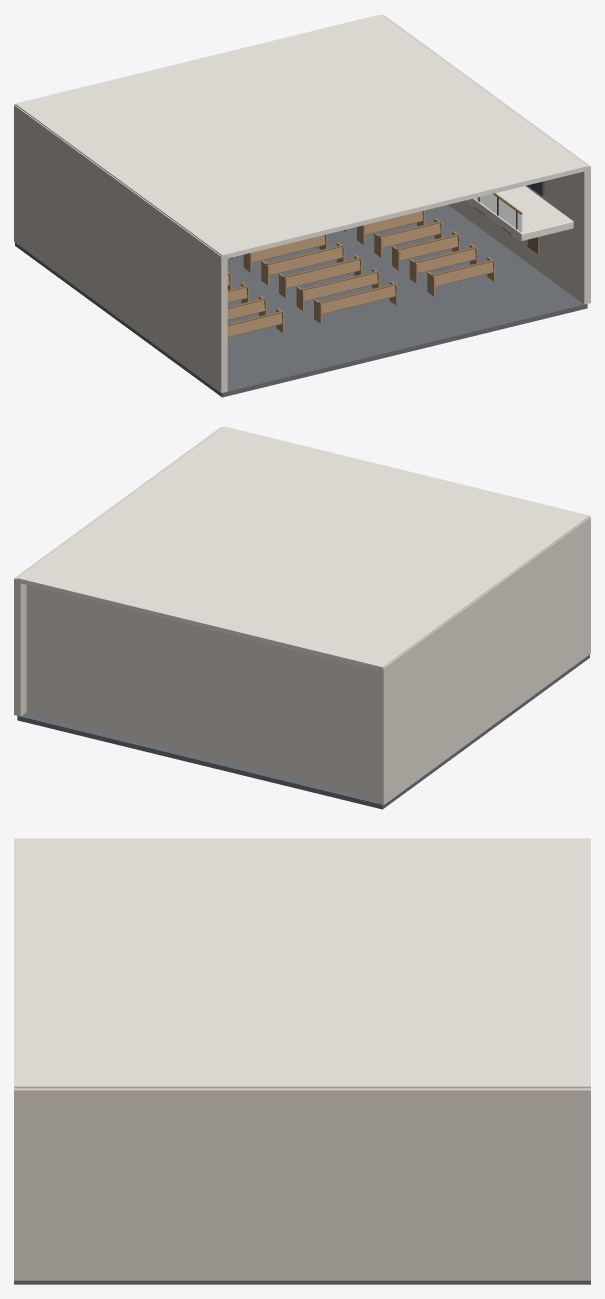
The model's file is sanctuary_3f.glb.
3 renders of one model, top to bottom at view 1: azimuth 30°, elevation 25°; view 2: azimuth 150°, elevation 25°; view 3: azimuth 270°, elevation 25°, orthographic. The views are drawn at different scales.
Parts seen in each view (by area): view 1: Ceiling_Main, Wall_West, Floor_Carpet, Wall_East_Back, Balcony_East_Slab, Pew_C_3_Back, Pew_C_5_Back, Pew_C_6_Back, Pew_C_4_Back, Pew_C_2_Back, Pew_R_3_Back, Pew_R_6_Back (+5 smaller); view 2: Ceiling_Main, Wall_North_Base, Wall_West, Floor_Carpet, Wall_East_Back; view 3: Ceiling_Main, Wall_East_Back, Floor_Carpet.
Part boxes in pixels (left/top/right/bottom): Ceiling_Main: left=15, top=14, right=587, bottom=258; Wall_West: left=14, top=105, right=227, bottom=393; Floor_Carpet: left=15, top=205, right=587, bottom=397; Wall_East_Back: left=382, top=15, right=590, bottom=304; Balcony_East_Slab: left=466, top=186, right=573, bottom=240; Pew_C_3_Back: left=266, top=247, right=342, bottom=275; Pew_C_5_Back: left=301, top=273, right=377, bottom=300; Pew_C_6_Back: left=318, top=285, right=395, bottom=313; Pew_C_4_Back: left=283, top=260, right=360, bottom=288; Pew_C_2_Back: left=248, top=235, right=325, bottom=262; Pew_R_3_Back: left=379, top=223, right=440, bottom=247; Pew_R_6_Back: left=431, top=261, right=493, bottom=286; Ceiling_Main: left=17, top=426, right=589, bottom=670; Wall_North_Base: left=26, top=585, right=377, bottom=797; Wall_West: left=377, top=517, right=590, bottom=805; Floor_Carpet: left=17, top=654, right=589, bottom=809; Wall_East_Back: left=14, top=427, right=222, bottom=716; Ceiling_Main: left=14, top=838, right=590, bottom=1088; Wall_East_Back: left=14, top=1088, right=590, bottom=1280; Floor_Carpet: left=14, top=1280, right=590, bottom=1284.
Bounding box in the file's own units: 17 × 6.25 × 16.5.
